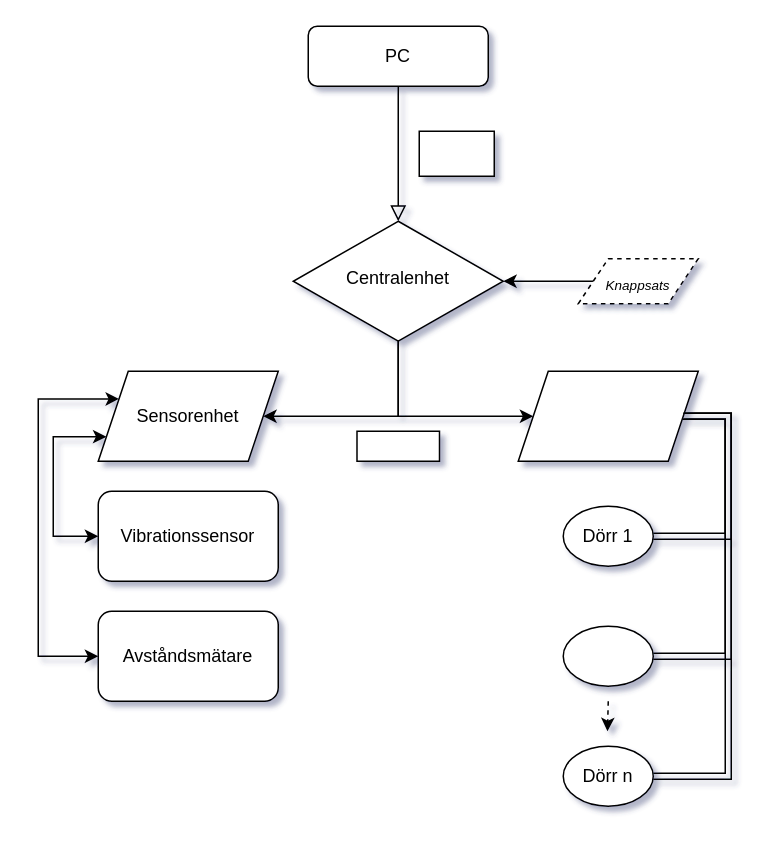
The diagram is 767 pixels wide and 842 high, and some of its shapes have lost their labels. Each missing label, with the centre of its shape:
CAN: point 398,445
Dörr 2: point 607,655
Dörrenhet: point 607,415
USART: point 456,153
